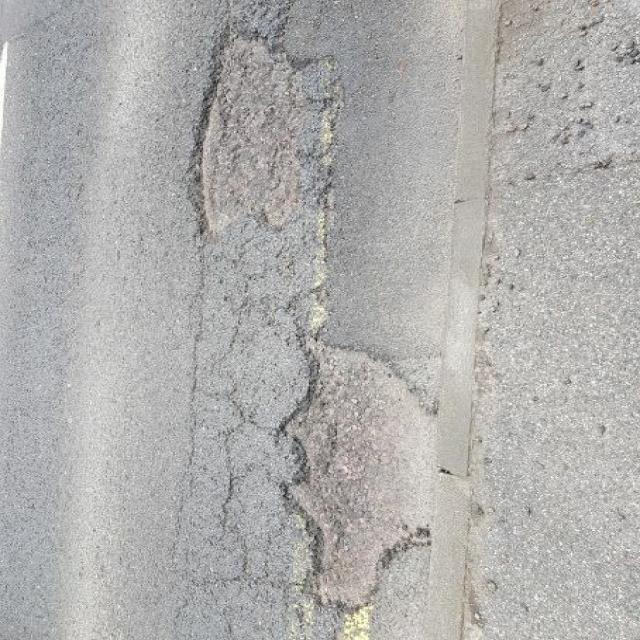pothole: (265, 331, 437, 614), (173, 12, 340, 242)
